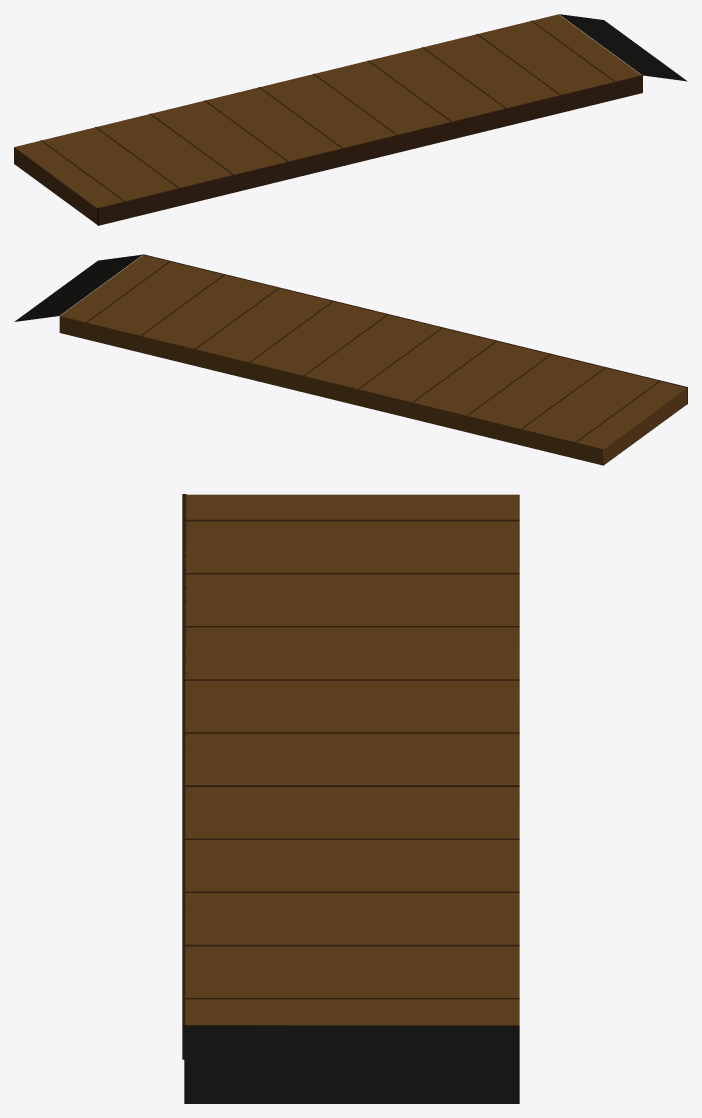
The model's file is school-podium.glb.
3 views of the same model, one above another, from view 1: azimuth 30°, elevation 25°; view 2: azimuth 150°, elevation 25°; view 3: azimuth 270°, elevation 25° (orthographic). The views are drawn at different scales.
Visible parts, largest first — view 1: platform__wood, ramp-mat__rubber; view 2: platform__wood, ramp-mat__rubber; view 3: platform__wood, ramp-mat__rubber.
Part boxes in pixels (left/top/right/bottom): platform__wood: left=14, top=14, right=642, bottom=225; ramp-mat__rubber: left=559, top=14, right=687, bottom=81; platform__wood: left=59, top=254, right=687, bottom=465; ramp-mat__rubber: left=14, top=254, right=142, bottom=321; platform__wood: left=182, top=494, right=519, bottom=1059; ramp-mat__rubber: left=184, top=1025, right=519, bottom=1103.
Size of the model in its own units: 6.5 by 0.182 by 1.61.
